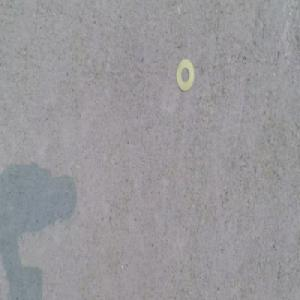Washer: (175, 59, 194, 90)
